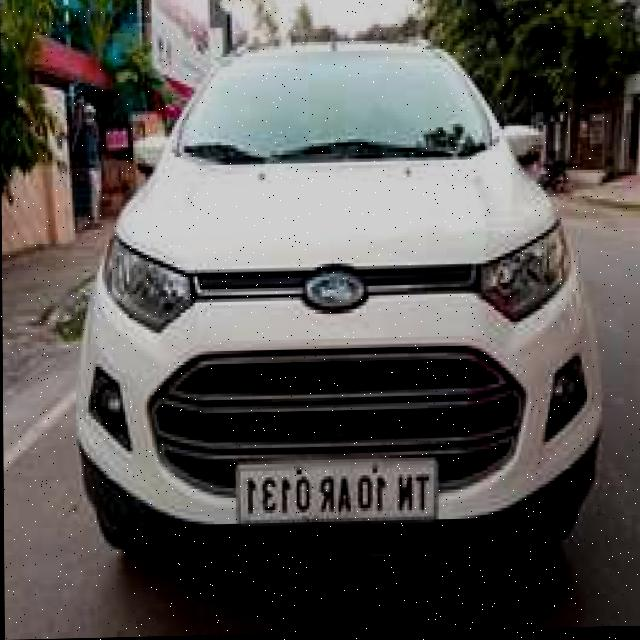plate: (235, 453, 440, 528)
